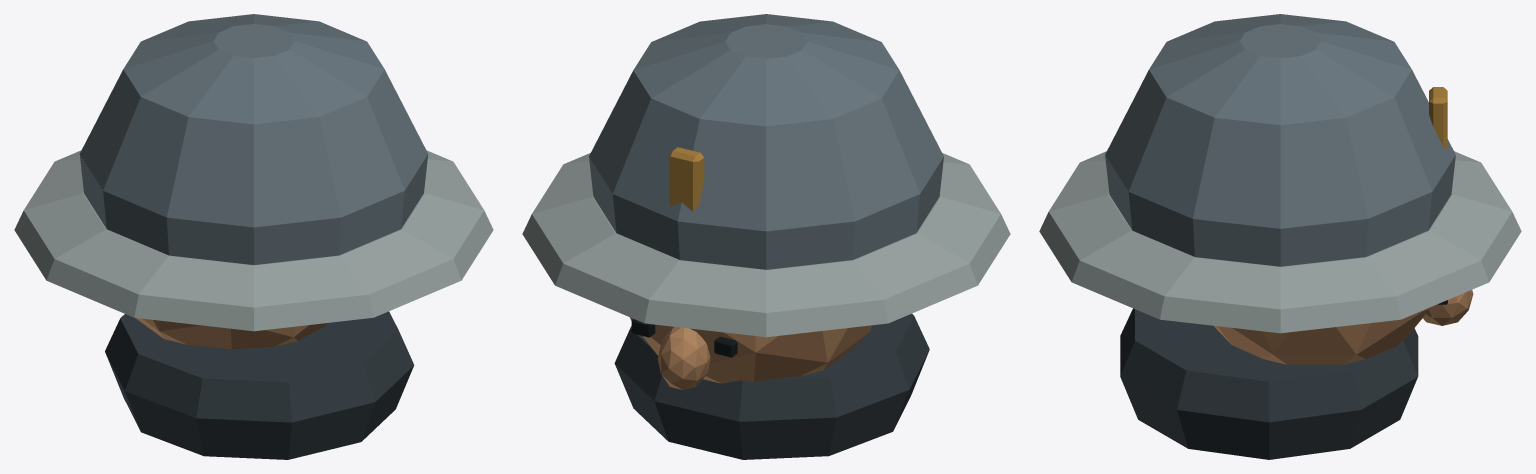
The model's file is Head.glb.
The picture shows the model from 3 angles, left to right: view 1: azimuth 30°, elevation 25°; view 2: azimuth 150°, elevation 25°; view 3: azimuth 270°, elevation 25°; orthographic projection.
Visible parts, largest first — view 1: Sculpture; view 2: Sculpture; view 3: Sculpture.
Boxes of the visible parts, left/top/right/bottom form: Sculpture: left=14, top=14, right=493, bottom=459; Sculpture: left=522, top=14, right=1010, bottom=459; Sculpture: left=1039, top=14, right=1521, bottom=459.
Size of the model in its own units: 0.77 by 0.635 by 0.77.
